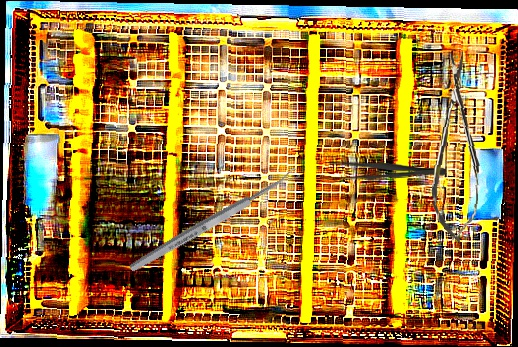Dressing Forceps: (320, 161, 446, 182)
Micro Scissor: (429, 49, 486, 243)
Surgical Spoon: (127, 166, 302, 275)
